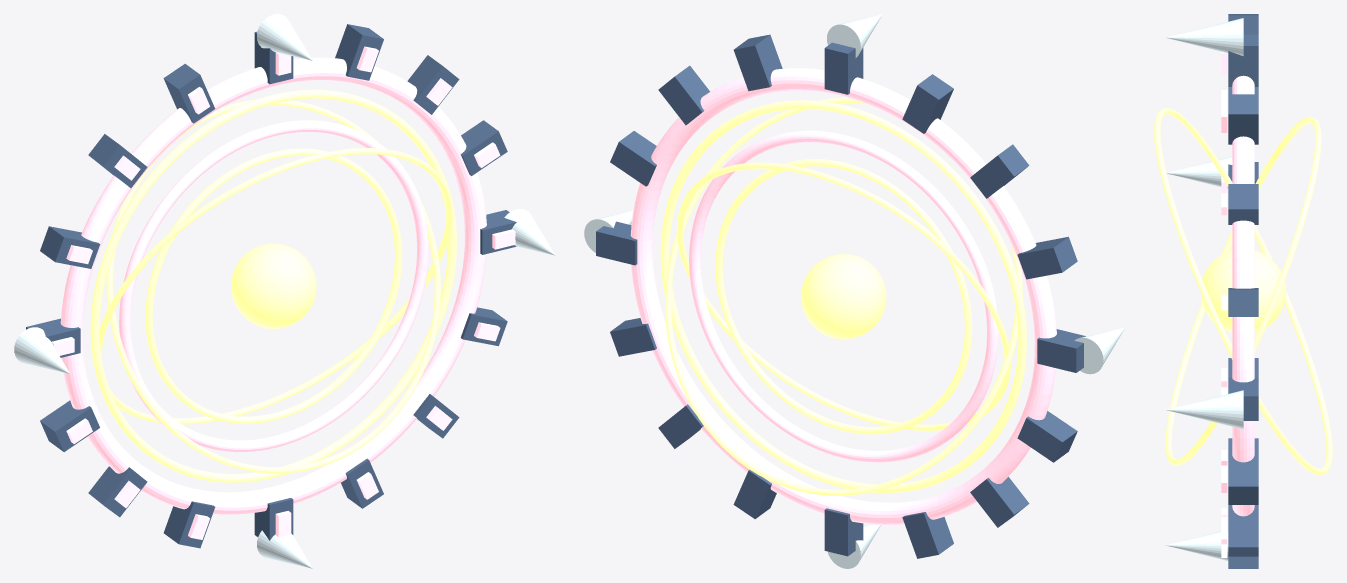
File: portal_astral_eclipse.glb
3 views of the same model, side by side, from view 1: azimuth 30°, elevation 25°; view 2: azimuth 150°, elevation 25°; view 3: azimuth 270°, elevation 25° (orthographic).
Visible parts, largest first — view 1: ring_0, ring_2, ring_1, ring_3, reactor_core, tilted_rune_ring_1, tilted_rune_ring_0, anchor_3, anchor_0, rune_frame_11, rune_frame_1, rune_frame_15 (+15 smaller); view 2: ring_0, ring_2, ring_1, ring_3, reactor_core, tilted_rune_ring_0, tilted_rune_ring_1, rune_frame_11, rune_frame_1, rune_frame_15, rune_frame_13, rune_frame_10 (+15 smaller); view 3: ring_0, tilted_rune_ring_0, tilted_rune_ring_1, reactor_core, anchor_1, anchor_0, rune_frame_5, rune_frame_1, rune_frame_6, rune_frame_2, rune_frame_0, anchor_2 (+5 smaller).
Boxes of the visible parts, x1,y1,x2,y2 form: ring_0: (60,57,486,514); ring_2: (119,120,428,452); ring_1: (90,89,456,482); ring_3: (145,148,402,423); reactor_core: (231,243,316,328); tilted_rune_ring_1: (106,99,440,473); tilted_rune_ring_0: (99,148,452,424); anchor_3: (14,327,69,373); anchor_0: (257,14,312,60); rune_frame_11: (40,400,99,451); rune_frame_1: (335,24,383,80); rune_frame_15: (163,64,215,123); ring_0: (630,68,1056,525); ring_2: (689,130,998,462); ring_1: (660,100,1026,493); ring_3: (715,159,972,434); reactor_core: (801,254,886,339); tilted_rune_ring_0: (665,97,1022,495); tilted_rune_ring_1: (676,162,1010,430); rune_frame_11: (1017,411,1077,462); rune_frame_1: (733,34,782,91); rune_frame_15: (902,74,953,133); rune_frame_13: (1017,236,1077,279); rune_frame_10: (970,477,1029,527); ring_0: (1232,75,1254,516); tilted_rune_ring_0: (1154,108,1332,474); tilted_rune_ring_1: (1165,117,1321,465); reactor_core: (1201,250,1286,332); anchor_1: (1165,390,1243,429); anchor_0: (1165,18,1243,55); rune_frame_5: (1228,453,1258,504); rune_frame_1: (1228,94,1258,144); rune_frame_6: (1228,505,1258,556); rune_frame_2: (1228,184,1258,224); rune_frame_0: (1228,34,1258,86); anchor_2: (1165,529,1228,560).
Size of the model in its own units: 12.2 by 12.2 by 3.64.
